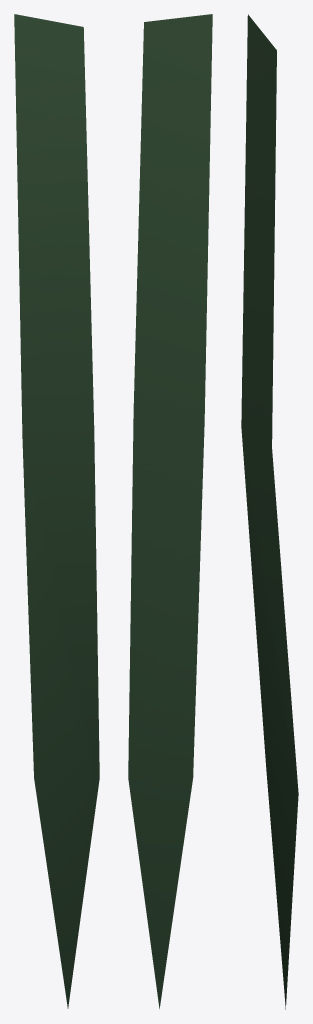
Rendered from trees-grasses-grass-blade_v3.glb.
3 renders of one model, left to right at view 1: azimuth 30°, elevation 25°; view 2: azimuth 210°, elevation 25°; view 3: azimuth 330°, elevation 25°, orthographic. The views are drawn at different scales.
Visible parts, largest first — view 1: Grass Blade_v3; view 2: Grass Blade_v3; view 3: Grass Blade_v3.
Boxes of the visible parts, <box> form: Grass Blade_v3: <box>14,14,99,1008</box>; Grass Blade_v3: <box>128,14,212,1008</box>; Grass Blade_v3: <box>241,14,298,1009</box>.
Size of the model in its own units: 0.0215 by 0.3 by 0.015.
